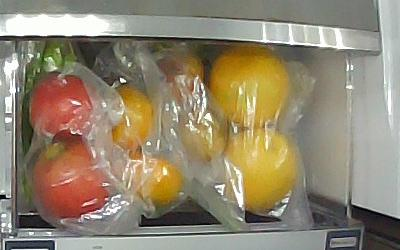apple_vinyl: (31, 137, 109, 220), (30, 71, 93, 138)
grapefruit_vinyl: (210, 46, 291, 129), (224, 129, 298, 212)
persimmon_vinyl: (110, 86, 154, 152), (125, 158, 182, 205)
prune_vinyl: (176, 107, 227, 164), (149, 53, 204, 101)
